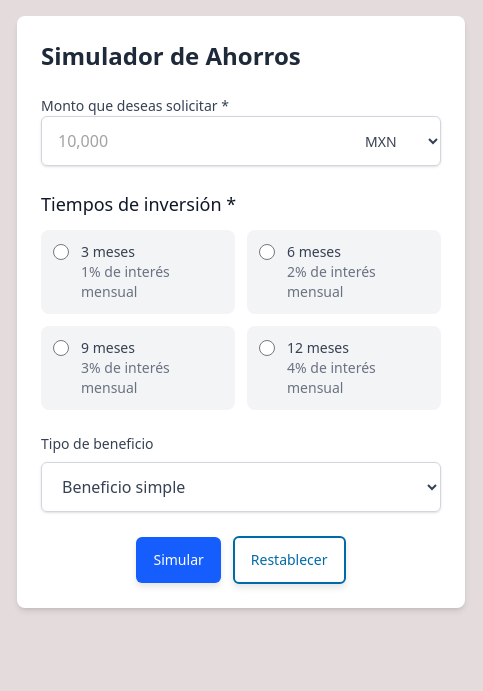
it: Componente Simulator › debe mostrar errores al enviar formulario vacío
What coordinates should you click on to do the following:
click the button "Simular"
I would click on:
 (179, 560)
Its box is [136, 537, 221, 583].
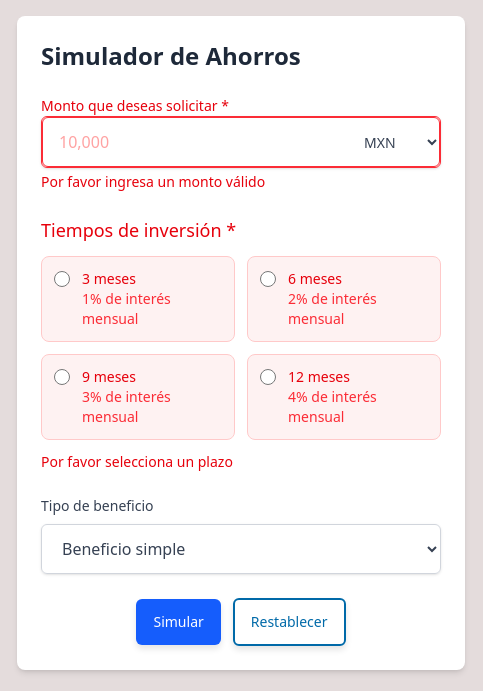
Expected: the text "Por favor ingresa un monto válido" is shown, [41, 172, 265, 191]
Expected: the text "Por favor selecciona un plazo" is shown, [41, 452, 233, 471]
